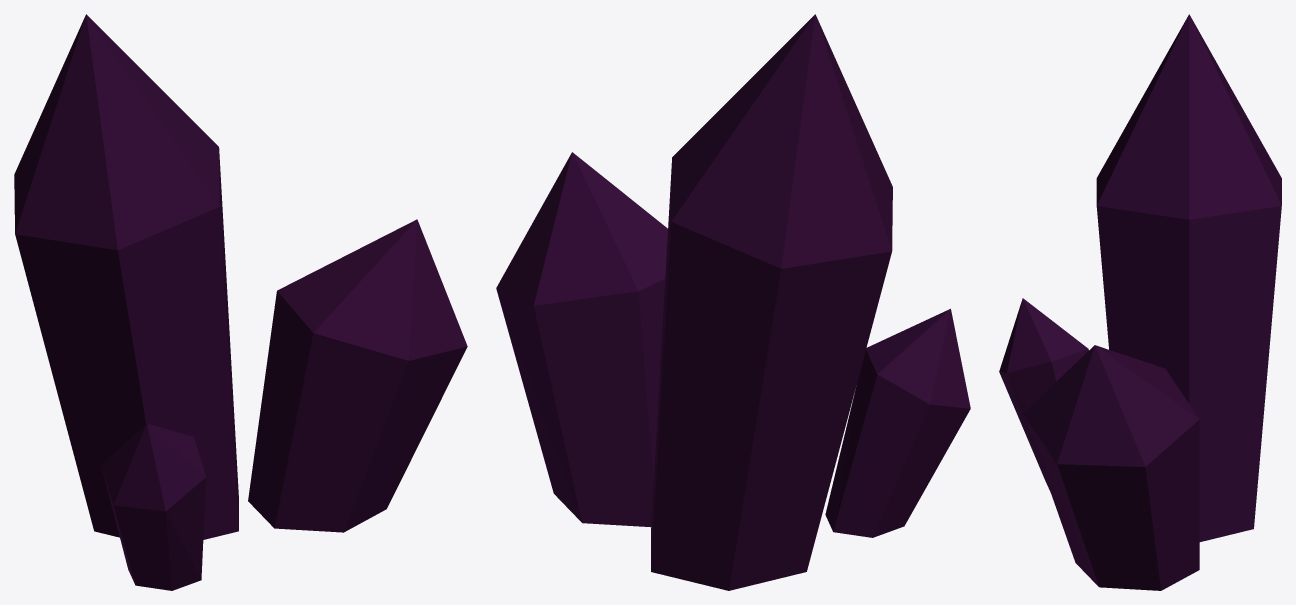
The model's file is crystalbunch1.fbx.
3 renders of one model, left to right at view 1: azimuth 30°, elevation 25°; view 2: azimuth 150°, elevation 25°; view 3: azimuth 270°, elevation 25°, orthographic. The views are drawn at different scales.
Visible parts, largest first — view 1: crystal002; view 2: crystal002; view 3: crystal002.
Boxes of the visible parts, left/top/right/bottom form: crystal002: left=14, top=14, right=467, bottom=590; crystal002: left=496, top=14, right=970, bottom=590; crystal002: left=999, top=14, right=1281, bottom=590.
Size of the model in its own units: 27.29 by 34.57 by 19.08.
